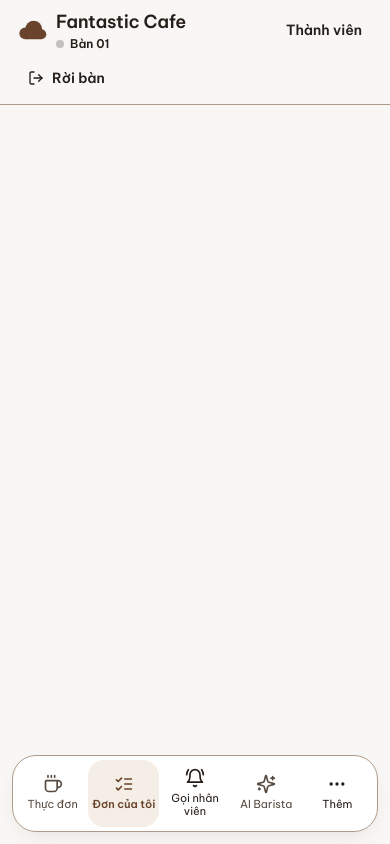
GuestLayout CSKH link › opens the Telegram bot in a new tab while a table session is active
Step 1. Click the button "Thêm" → (337, 793), box x1=302 y1=760 x2=373 y2=827
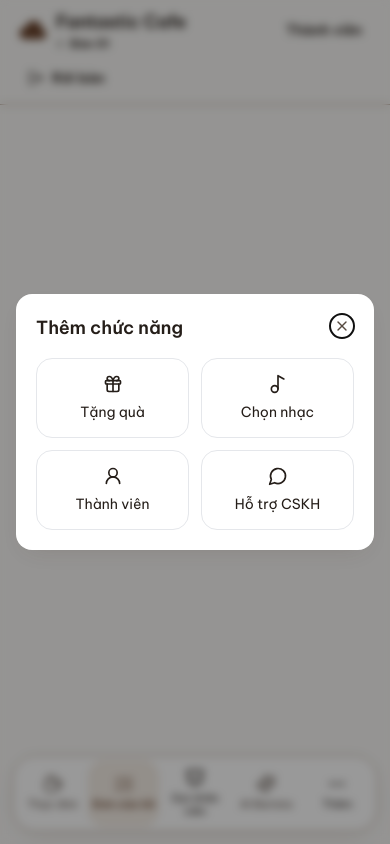
Now the number of links "Hỗ trợ CSKH" is 1, box x1=201 y1=450 x2=354 y2=530
